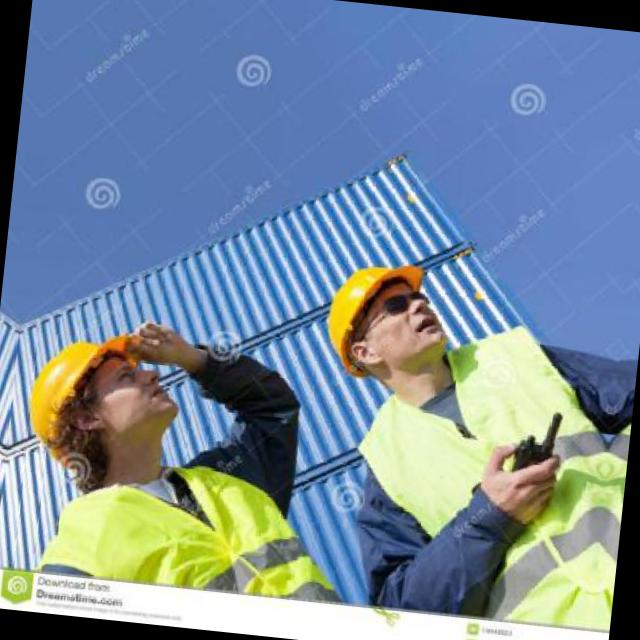helmet: (22, 328, 184, 473), (314, 256, 450, 384)
